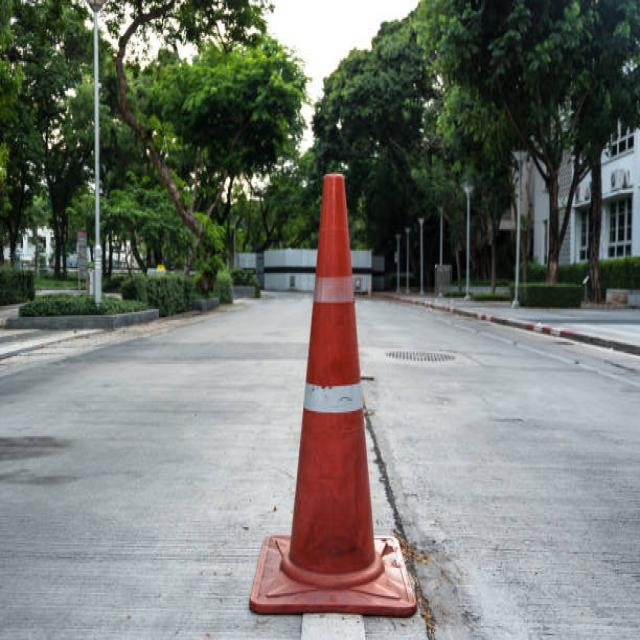Traffic Cone: (230, 141, 430, 629)
